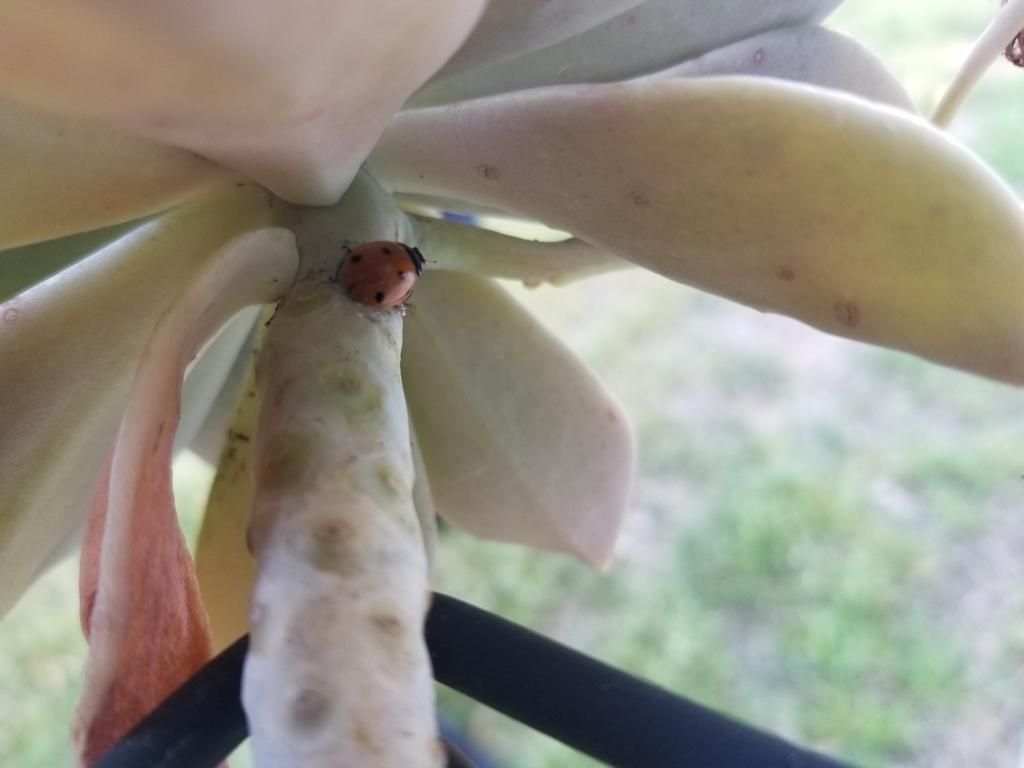ladybug: (327, 241, 441, 316)
